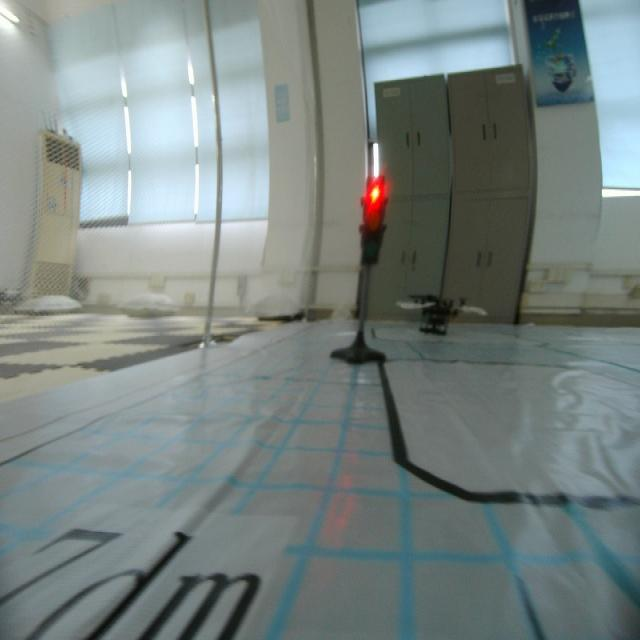red: (357, 173, 389, 270)
